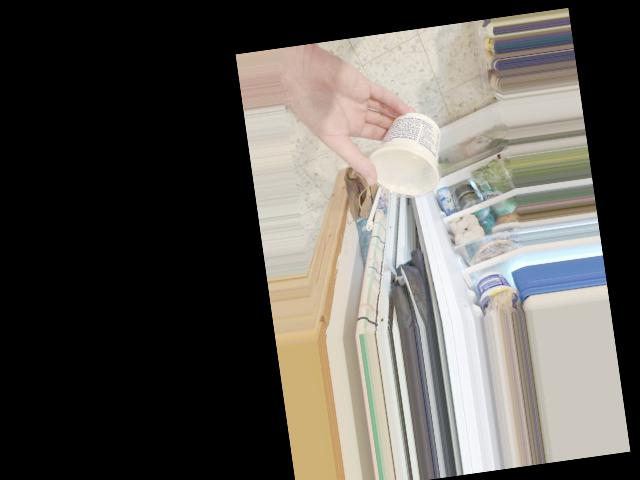cotage: (367, 106, 442, 201)
